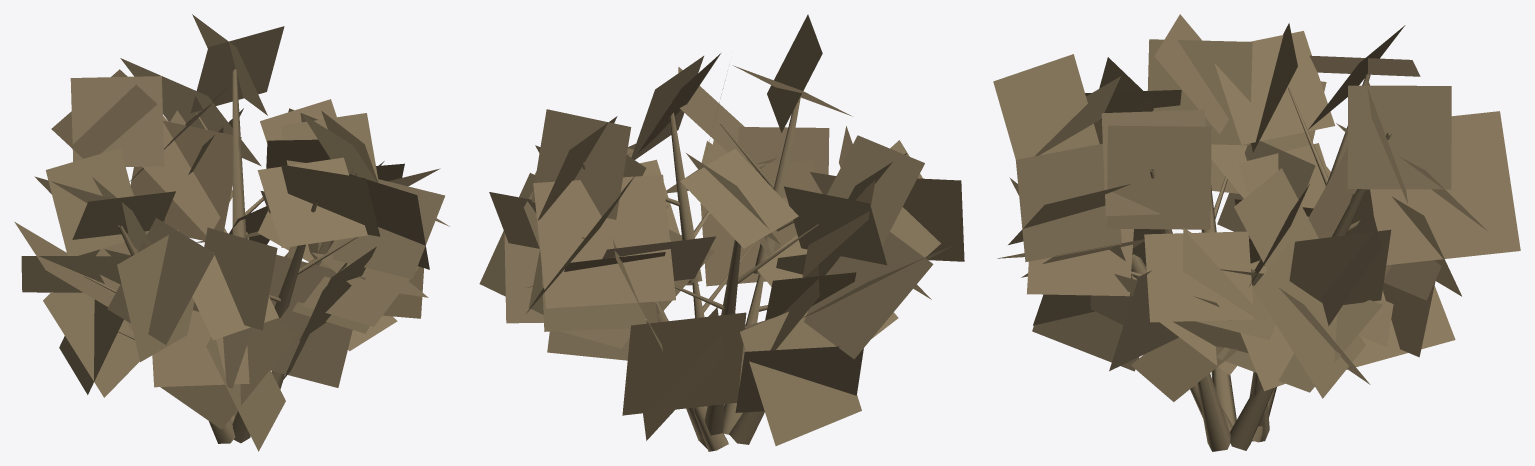
The model's file is bush-3-lod1.glb.
3 renders of one model, left to right at view 1: azimuth 30°, elevation 25°; view 2: azimuth 150°, elevation 25°; view 3: azimuth 270°, elevation 25°, orthographic. The views are drawn at different scales.
Visible parts, largest first — view 1: bush-3-lod1-bush-foliage, bush-3-lod1-oak-bark; view 2: bush-3-lod1-bush-foliage, bush-3-lod1-oak-bark; view 3: bush-3-lod1-bush-foliage, bush-3-lod1-oak-bark.
Boxes of the visible parts, box(x1,y1,x2,y2) form: bush-3-lod1-bush-foliage: box(14, 14, 449, 451); bush-3-lod1-oak-bark: box(84, 69, 357, 443); bush-3-lod1-bush-foliage: box(479, 14, 964, 445); bush-3-lod1-oak-bark: box(582, 96, 840, 451); bush-3-lod1-bush-foliage: box(993, 14, 1520, 401); bush-3-lod1-oak-bark: box(1131, 73, 1391, 451).
Size of the model in its own units: 4.36 by 3.5 by 4.34.
